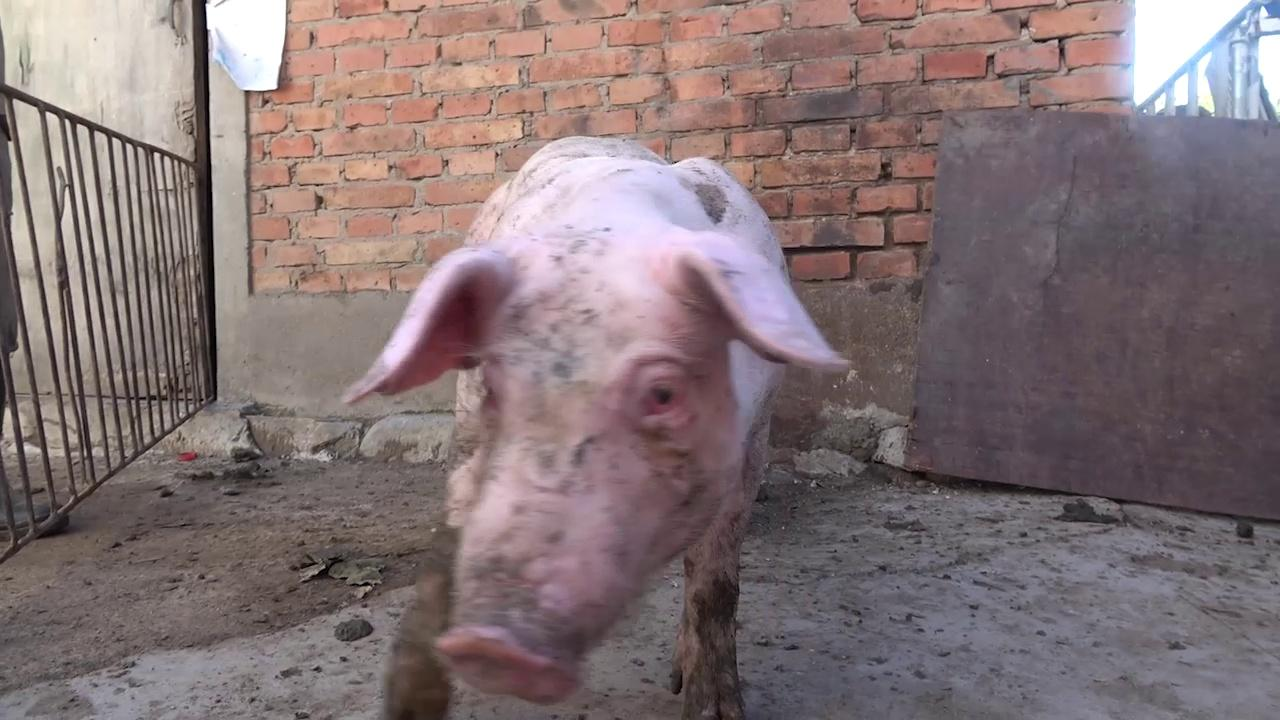Face: (343, 219, 858, 717)
